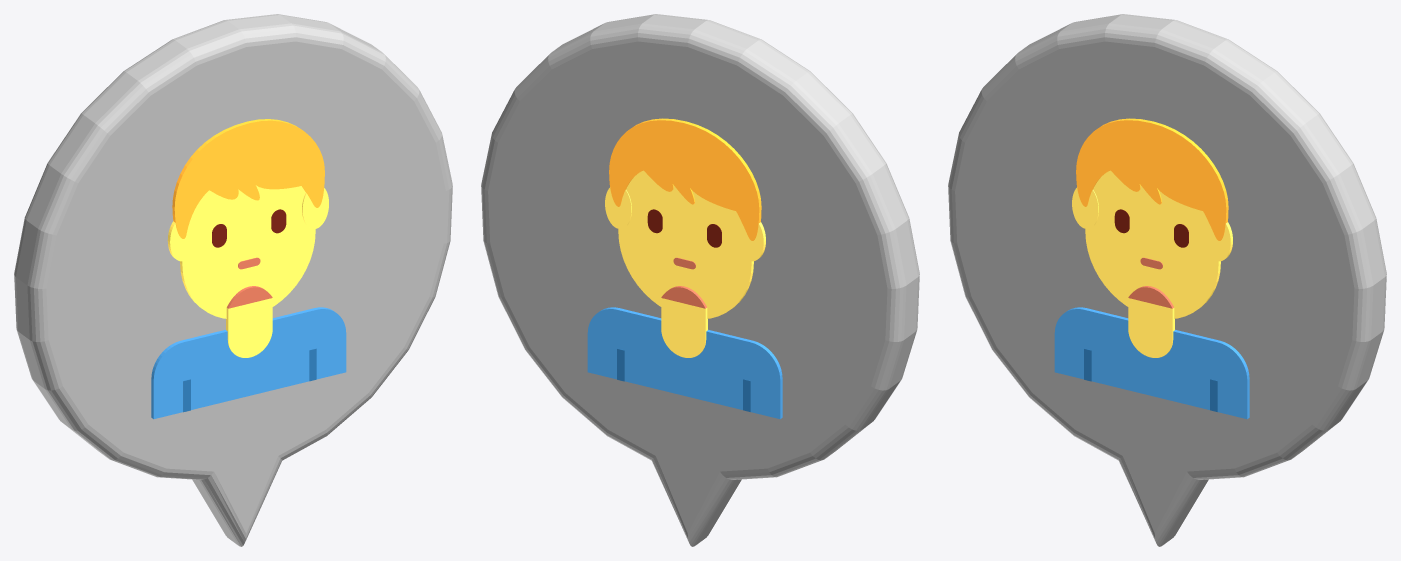
The model's file is man_frowning.glb.
3 renders of one model, left to right at view 1: azimuth 30°, elevation 25°; view 2: azimuth 150°, elevation 25°; view 3: azimuth 330°, elevation 25°, orthographic.
Parts seen in each view (by area): view 1: EmotionBubble; view 2: EmotionBubble; view 3: EmotionBubble.
Part boxes in pixels (left/top/right/bottom): EmotionBubble: left=14, top=14, right=452, bottom=546; EmotionBubble: left=481, top=14, right=919, bottom=546; EmotionBubble: left=948, top=14, right=1386, bottom=546.
Size of the model in its own units: 5.29 by 6.16 by 0.742.
